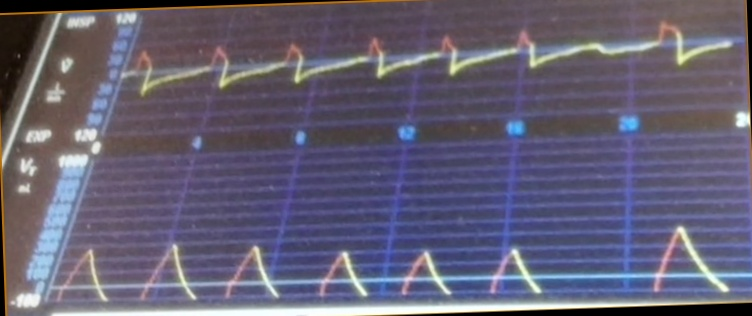Ineffective_effort Flow: (122, 18, 734, 107)
Ineffective_effort Volume: (55, 223, 732, 300)
